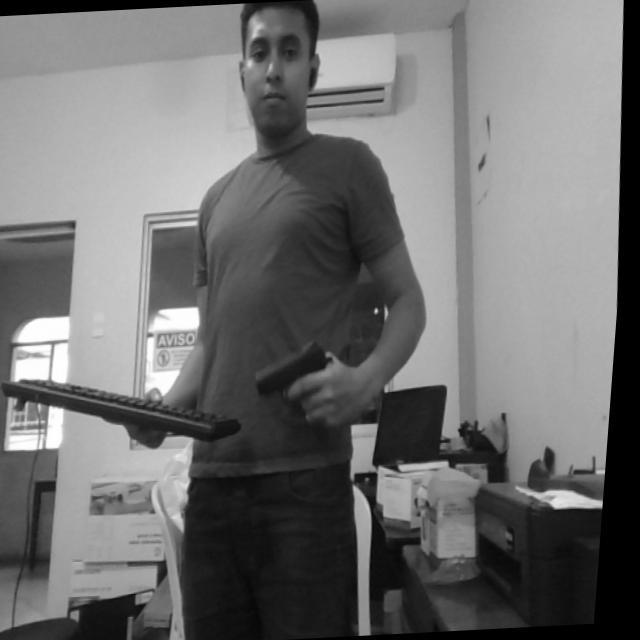weapon: (256, 338, 350, 423)
